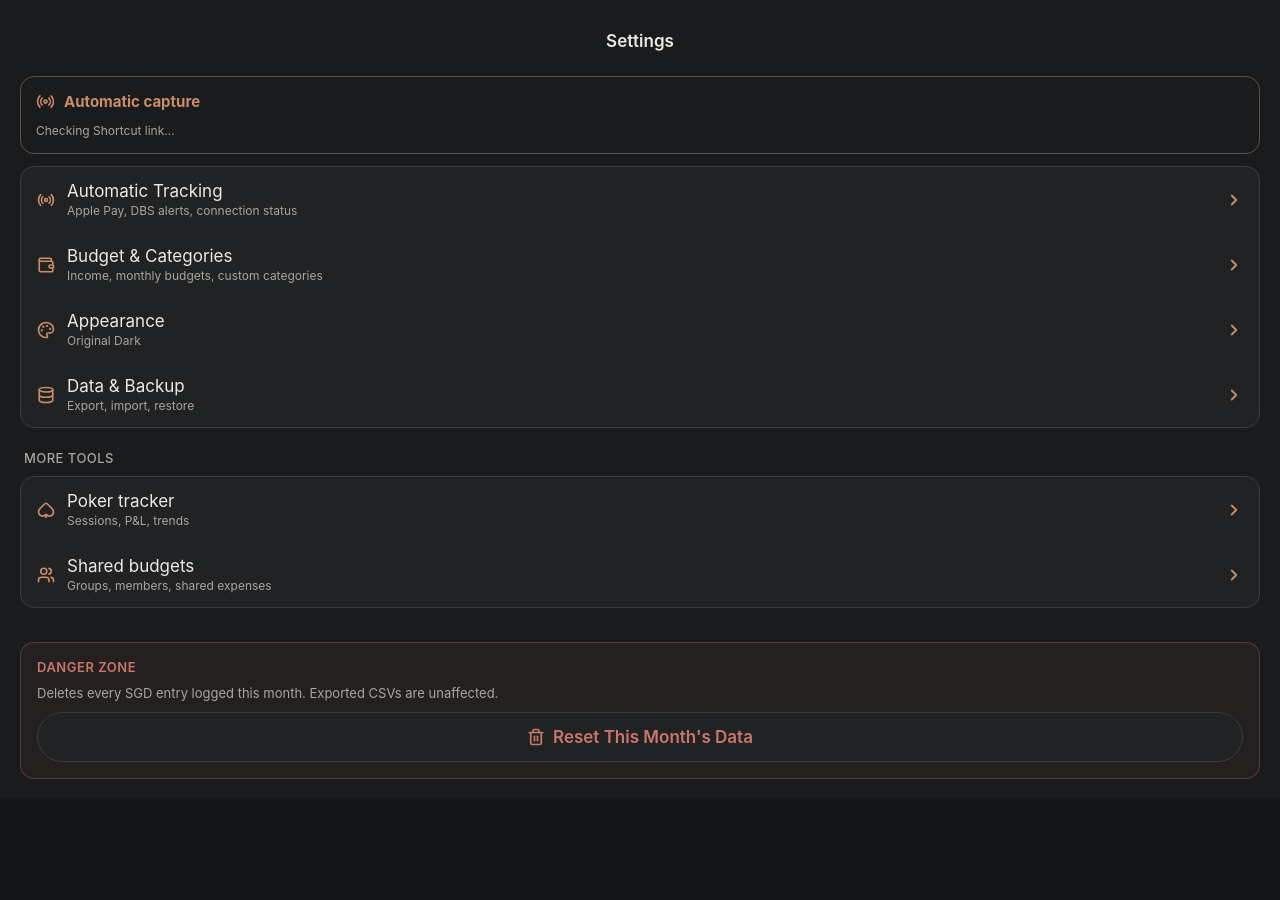
Scenario: Settings hub › navigates to Data & Backup and back to the hub
Click the button "Data & Backup Export, import, restore" at (126, 386), box [21,362,1259,427]
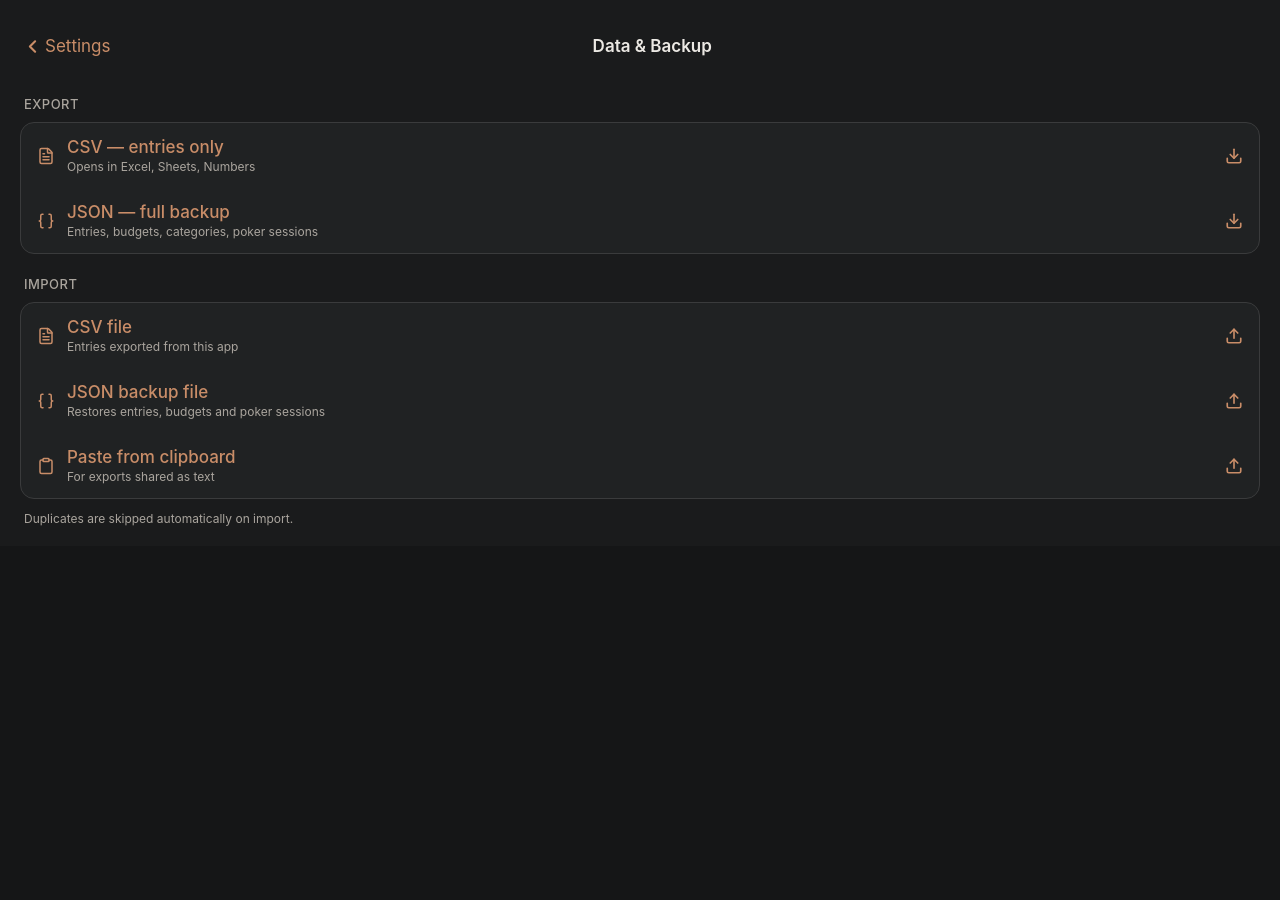
Expected: the text "CSV — entries only" is shown, [67,137,224,157]
Click the button with class "back-btn" at (66, 46), box [22,24,110,68]
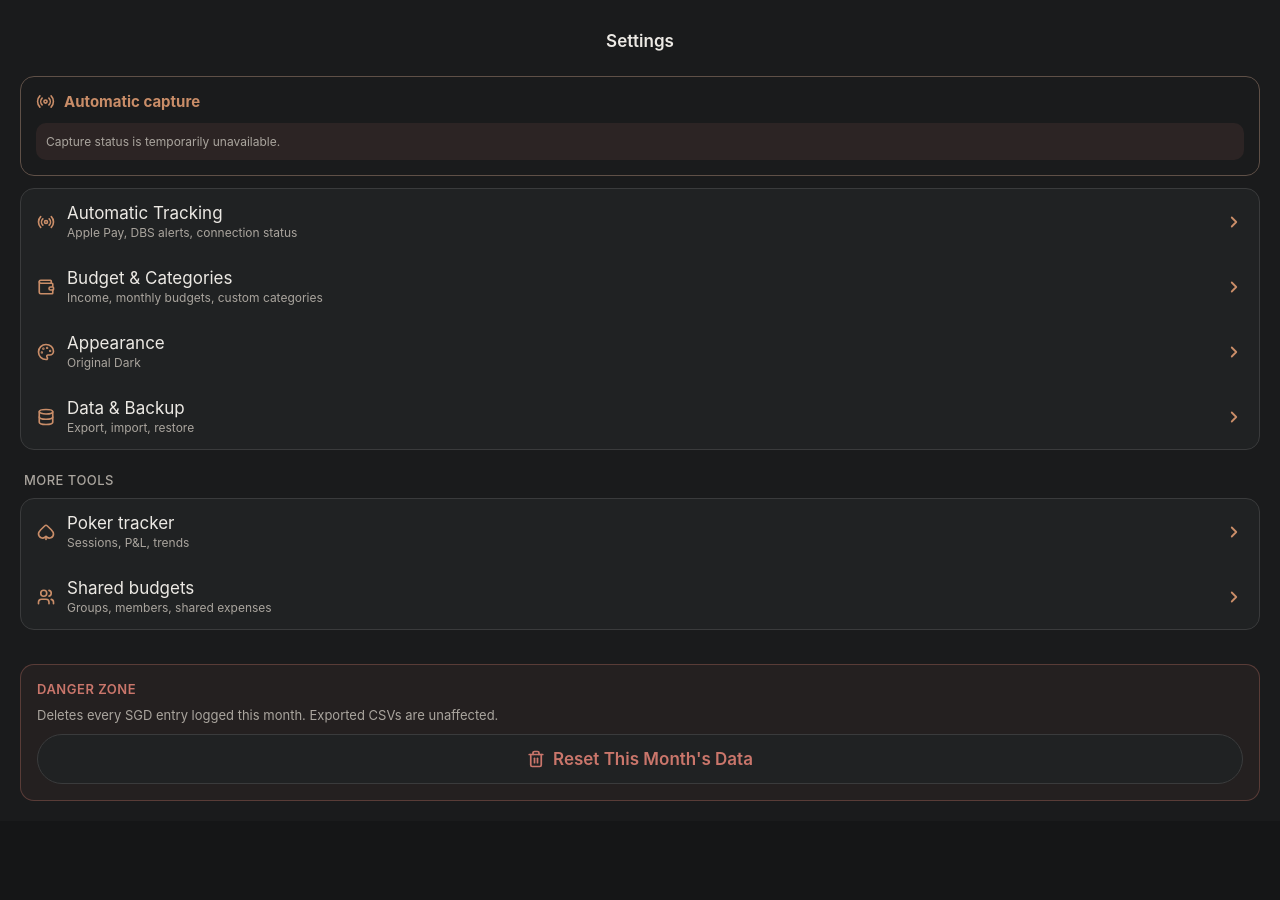
Expected: the number of buttons with class "settings-nav-row" is 6, [21,189,1259,254]; [21,254,1259,319]; [21,319,1259,384]; [21,384,1259,449]; [21,499,1259,564]; [21,564,1259,629]
